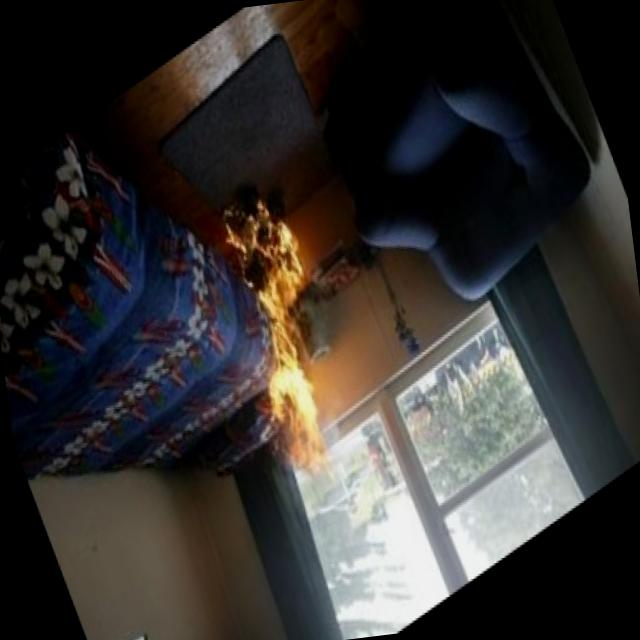fire: (174, 152, 395, 531)
